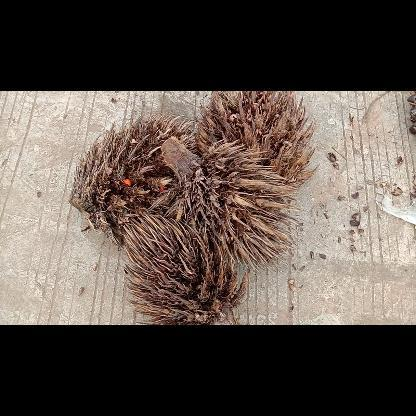Janjang kosong: (160, 136, 304, 272), (67, 112, 197, 250), (123, 214, 249, 324), (195, 91, 320, 189)
